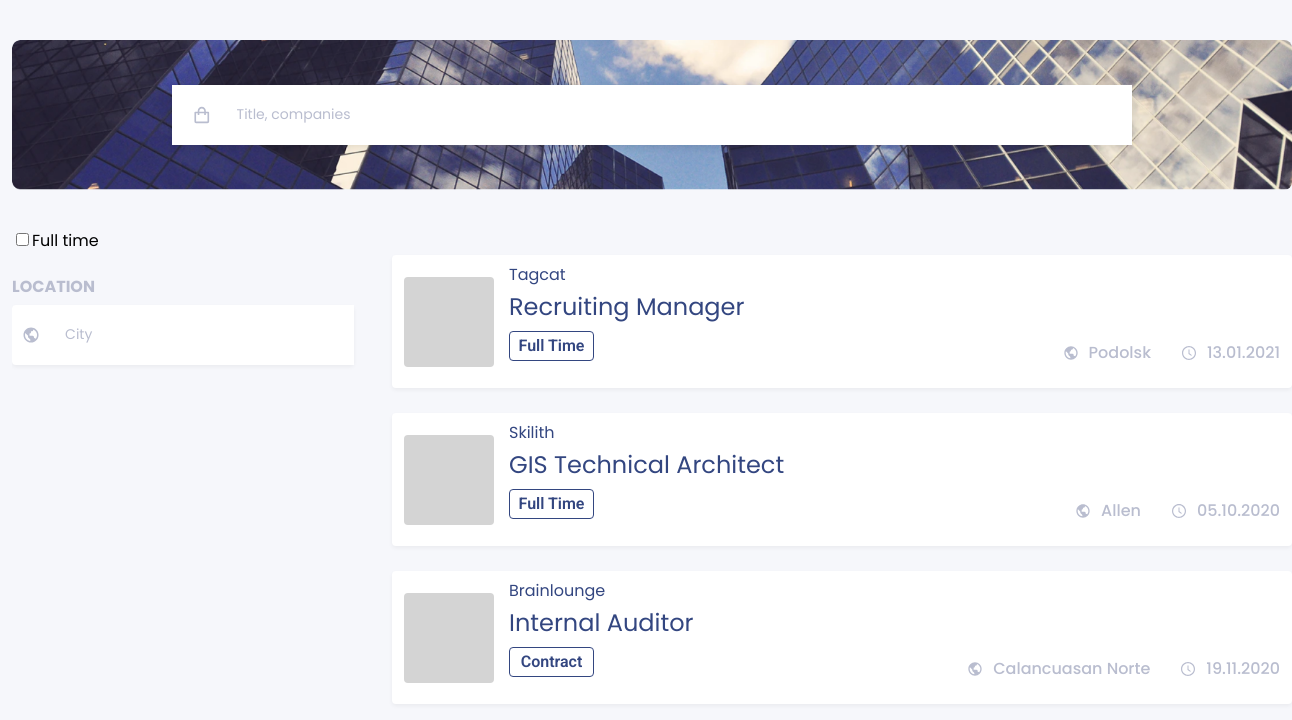
Test: MainPage › filters jobs and doesn't care about letter case
Expected: the heading "Internal Auditor" is shown, [509, 606, 694, 639]
Type "recruit" into the field with placeholder "Title, companies".
click(672, 115); type("recruit")  # box [212, 85, 1132, 145]
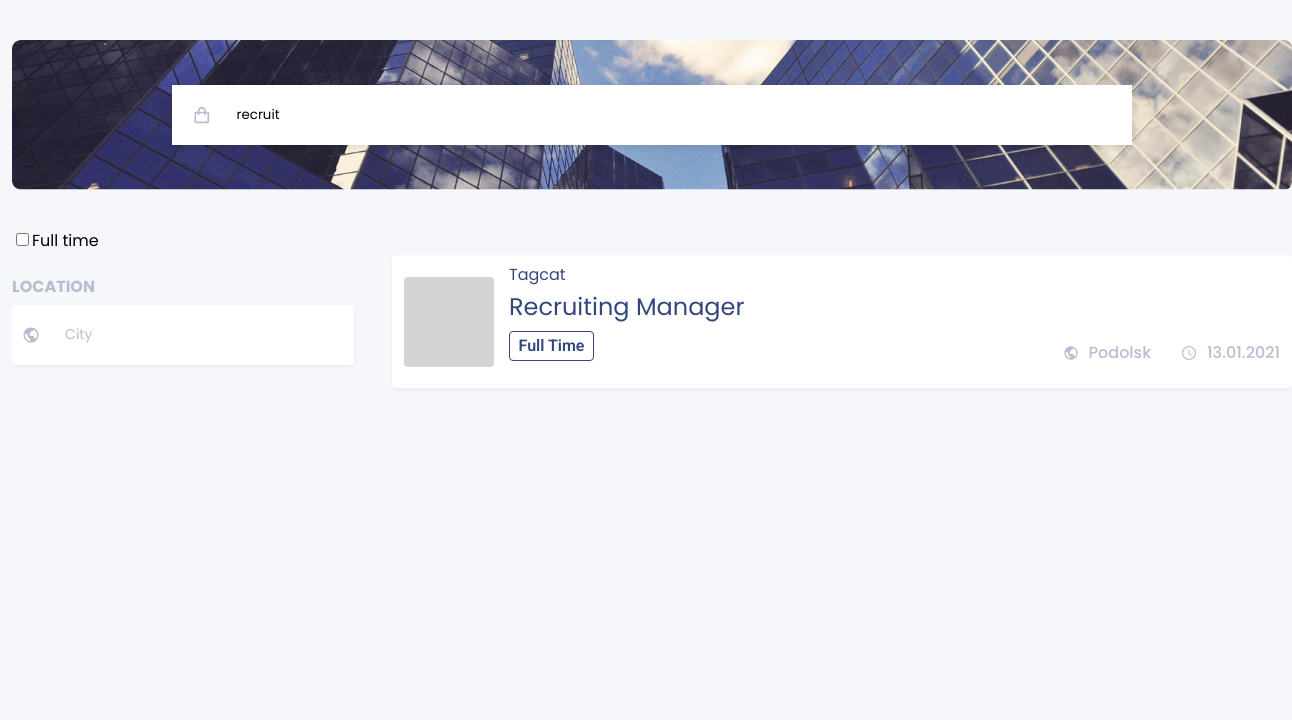
Expected: the heading "Recruiting Manager" is shown, [509, 290, 744, 323]
Expected: the link "Internal Auditor" is gone
